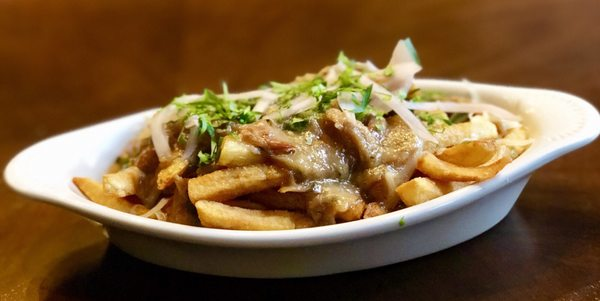curry: (170, 90, 260, 166)
sushi: (15, 32, 597, 279)
